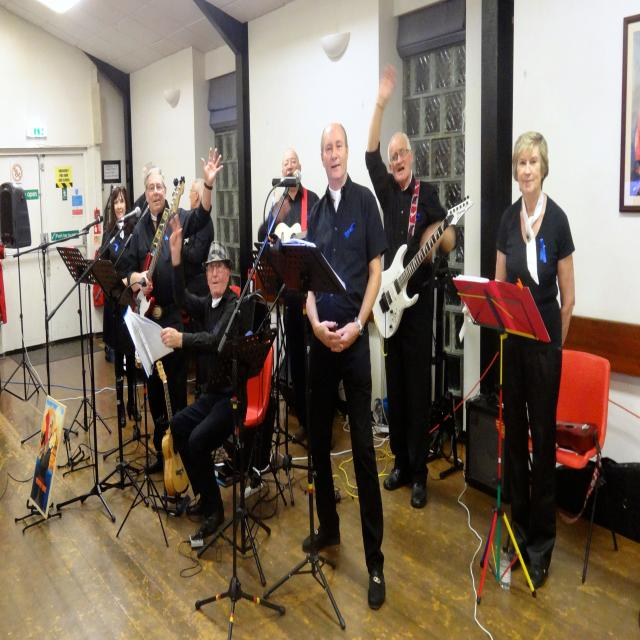body: (300, 120, 390, 613), (363, 59, 458, 514), (491, 128, 579, 594), (152, 212, 250, 554), (126, 147, 224, 474), (257, 146, 322, 445), (98, 184, 146, 429), (180, 177, 216, 400), (128, 159, 170, 227)
